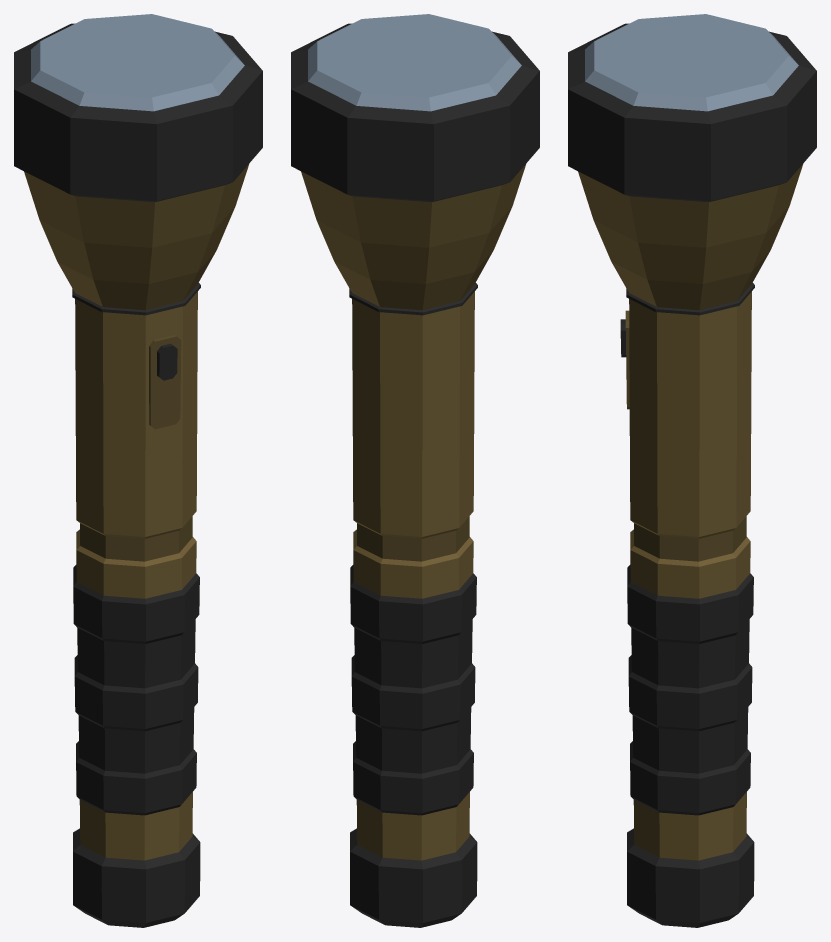
Rendered from torch.glb.
The picture shows the model from 3 angles, left to right: view 1: azimuth 30°, elevation 25°; view 2: azimuth 150°, elevation 25°; view 3: azimuth 270°, elevation 25°; orthographic projection.
Parts seen in each view (by area): view 1: Torch; view 2: Torch; view 3: Torch.
Part boxes in pixels (bbox=[...]): Torch: bbox=[14, 14, 262, 927]; Torch: bbox=[291, 14, 539, 927]; Torch: bbox=[568, 14, 816, 927].
Size of the model in its own units: 0.6764 by 2.51 by 0.6661.
